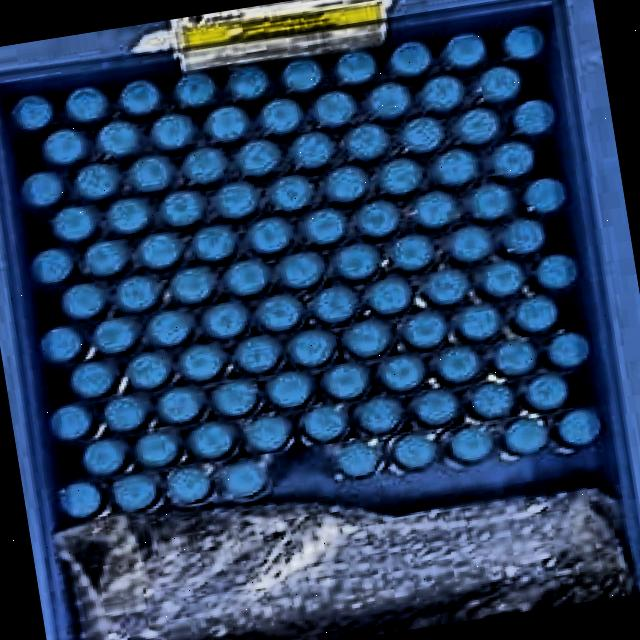vial: (421, 267, 474, 307), (36, 323, 85, 365), (446, 424, 494, 465), (345, 319, 395, 358), (358, 396, 406, 436), (391, 233, 439, 273), (377, 155, 423, 196), (481, 260, 529, 299), (302, 207, 350, 246), (502, 417, 551, 455), (241, 416, 291, 453), (89, 317, 139, 354), (215, 180, 261, 220), (64, 83, 110, 123), (323, 363, 371, 401), (366, 278, 414, 316), (545, 330, 594, 367), (401, 312, 450, 349), (157, 190, 206, 227), (39, 128, 89, 164), (366, 80, 411, 120), (335, 440, 381, 479), (534, 252, 581, 290), (412, 190, 459, 228), (18, 170, 65, 208), (7, 93, 54, 131), (437, 347, 485, 384), (343, 123, 391, 160), (455, 108, 503, 145), (385, 37, 430, 76), (392, 432, 438, 470), (554, 407, 600, 445), (27, 246, 73, 284), (234, 336, 281, 373), (180, 148, 227, 185), (419, 76, 466, 113), (50, 402, 94, 441), (312, 286, 356, 325), (326, 164, 370, 203), (127, 154, 171, 193), (336, 242, 381, 280), (513, 99, 558, 137), (291, 329, 337, 366), (249, 217, 295, 254), (146, 310, 192, 347), (74, 164, 120, 201), (94, 121, 140, 158), (202, 303, 249, 339), (150, 112, 197, 148), (330, 49, 377, 85), (125, 353, 173, 388), (190, 422, 234, 460), (450, 224, 494, 262), (138, 232, 182, 270), (118, 78, 162, 116), (225, 64, 269, 102), (157, 387, 202, 424), (379, 354, 424, 391), (270, 175, 315, 212), (435, 149, 480, 186), (354, 201, 399, 238), (256, 295, 301, 332), (237, 141, 282, 178), (291, 131, 336, 168), (169, 469, 215, 505), (477, 67, 523, 103), (79, 440, 126, 475), (59, 481, 102, 519), (526, 372, 569, 410), (314, 90, 357, 128), (210, 383, 258, 417), (71, 360, 115, 397), (171, 267, 215, 304), (85, 239, 129, 276), (61, 283, 105, 320), (208, 106, 253, 142), (470, 382, 516, 417), (225, 261, 271, 296), (261, 97, 303, 135), (414, 390, 457, 427), (268, 372, 312, 408), (281, 253, 325, 289), (192, 227, 237, 262), (108, 198, 153, 233), (181, 345, 223, 382), (282, 56, 324, 93), (445, 31, 487, 68), (514, 299, 561, 332), (116, 275, 159, 311), (134, 433, 178, 468), (458, 305, 502, 340), (522, 179, 567, 213), (116, 473, 157, 510), (495, 340, 536, 377), (225, 462, 267, 498), (53, 206, 95, 242), (493, 143, 536, 178), (403, 118, 446, 153), (501, 23, 544, 58), (507, 220, 548, 256), (104, 395, 146, 430), (173, 71, 215, 106), (303, 408, 346, 442), (472, 184, 513, 218)
